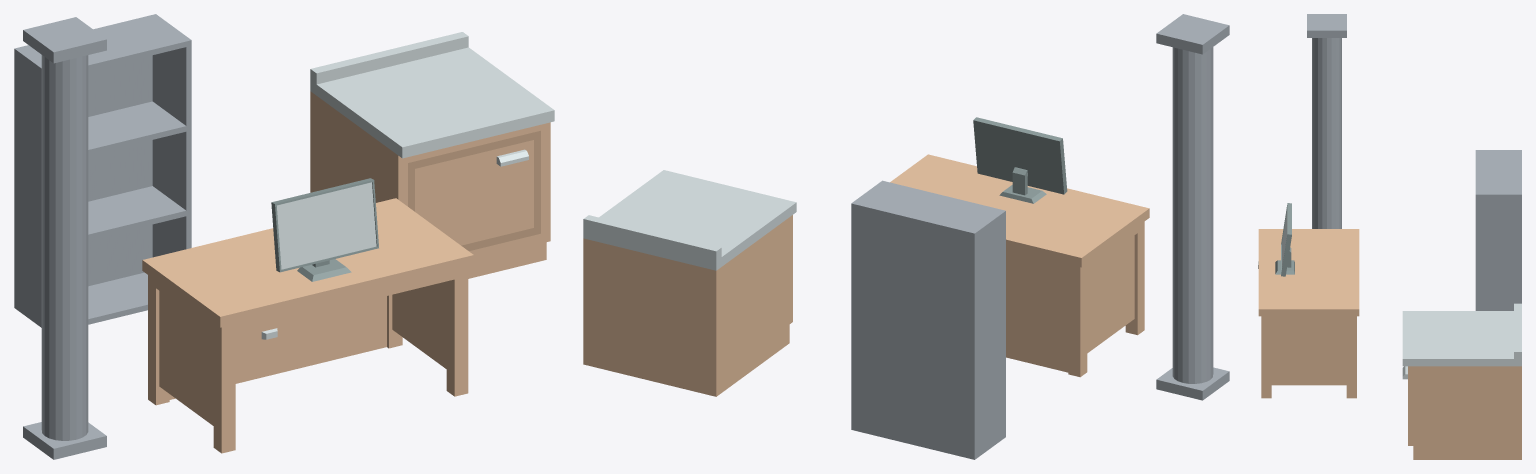
The picture shows the model from 3 angles, left to right: view 1: azimuth 30°, elevation 25°; view 2: azimuth 150°, elevation 25°; view 3: azimuth 270°, elevation 25°; orthographic projection. The views are drawn at different scales.
Parts seen in each view (by area): view 1: desk_blue__desk(Clone), cabinet_blue__kitchenCabinet(Clone), column_cyan__column_cyan shaft, cabinet_blue__door, shelf_orange__shelf_orange back, monitor_gray__computerScreen(Clone), shelf_orange__shelf_orange side_l, shelf_orange__shelf_orange side_r, shelf_orange__shelf_orange board1, shelf_orange__shelf_orange board2, shelf_orange__shelf_orange board3, column_cyan__column_cyan capital (+3 smaller); view 2: cabinet_blue__kitchenCabinet(Clone), shelf_orange__shelf_orange back, desk_blue__desk(Clone), column_cyan__column_cyan shaft, shelf_orange__shelf_orange side_l, monitor_gray__computerScreen(Clone), shelf_orange__shelf_orange board3, column_cyan__column_cyan capital, shelf_orange__shelf_orange side_r, column_cyan__column_cyan plinth; view 3: cabinet_blue__kitchenCabinet(Clone), desk_blue__desk(Clone), column_cyan__column_cyan shaft, shelf_orange__shelf_orange side_r, shelf_orange__shelf_orange board3, column_cyan__column_cyan capital, monitor_gray__computerScreen(Clone).
Boxes of the visible parts, left/top/right/bottom form: desk_blue__desk(Clone): left=142, top=198, right=473, bottom=453; cabinet_blue__kitchenCabinet(Clone): left=310, top=32, right=554, bottom=278; column_cyan__column_cyan shaft: left=41, top=55, right=88, bottom=440; cabinet_blue__door: left=408, top=130, right=540, bottom=250; shelf_orange__shelf_orange back: left=20, top=15, right=152, bottom=286; monitor_gray__computerScreen(Clone): left=271, top=178, right=378, bottom=281; shelf_orange__shelf_orange side_l: left=14, top=47, right=41, bottom=327; shelf_orange__shelf_orange side_r: left=151, top=14, right=191, bottom=257; shelf_orange__shelf_orange board1: left=88, top=186, right=186, bottom=239; shelf_orange__shelf_orange board2: left=88, top=101, right=186, bottom=155; shelf_orange__shelf_orange board3: left=22, top=17, right=186, bottom=70; column_cyan__column_cyan capital: left=23, top=17, right=106, bottom=63; cabinet_blue__kitchenCabinet(Clone): left=583, top=170, right=796, bottom=396; shelf_orange__shelf_orange back: left=855, top=203, right=971, bottom=458; desk_blue__desk(Clone): left=890, top=154, right=1149, bottom=377; column_cyan__column_cyan shaft: left=1172, top=47, right=1213, bottom=383; shelf_orange__shelf_orange side_l: left=970, top=209, right=1005, bottom=459; monitor_gray__computerScreen(Clone): left=973, top=117, right=1067, bottom=203; shelf_orange__shelf_orange board3: left=858, top=182, right=1000, bottom=230; column_cyan__column_cyan capital: left=1156, top=14, right=1229, bottom=54; shelf_orange__shelf_orange side_r: left=851, top=180, right=886, bottom=430; column_cyan__column_cyan plinth: left=1156, top=367, right=1229, bottom=400; cabinet_blue__kitchenCabinet(Clone): left=1402, top=303, right=1521, bottom=459; desk_blue__desk(Clone): left=1258, top=229, right=1359, bottom=398; column_cyan__column_cyan shaft: left=1312, top=38, right=1341, bottom=228; shelf_orange__shelf_orange side_r: left=1475, top=193, right=1521, bottom=310; shelf_orange__shelf_orange board3: left=1475, top=151, right=1519, bottom=192; column_cyan__column_cyan capital: left=1307, top=14, right=1346, bottom=37; monitor_gray__computerScreen(Clone): left=1275, top=203, right=1294, bottom=276.
Bounding box in the file's own units: 3.25 × 2.2 × 1.99.
